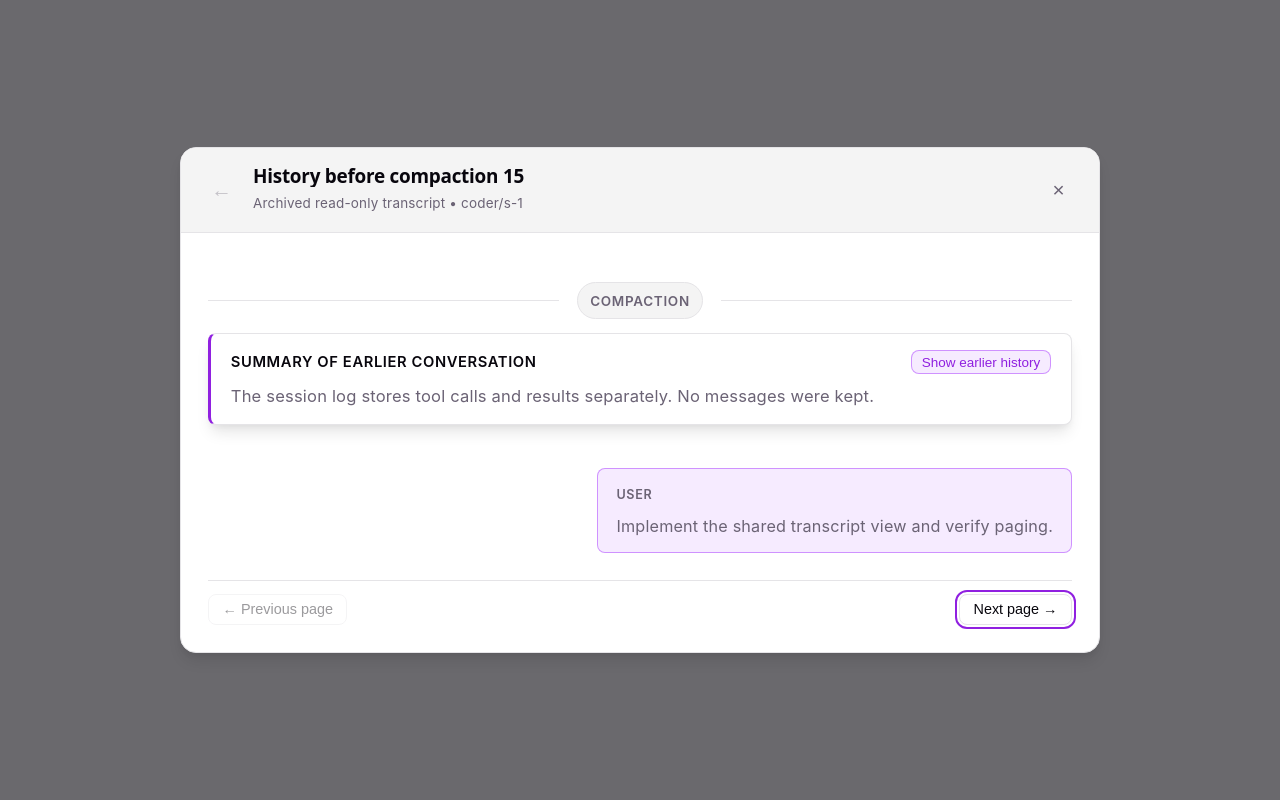
Test: ArchivedHistoryViewer (D4 browse-back) › recovers focus to the content container when paging fails with an error
Click the button "Next page →": coordinates (1016, 609) [959, 594, 1072, 625]
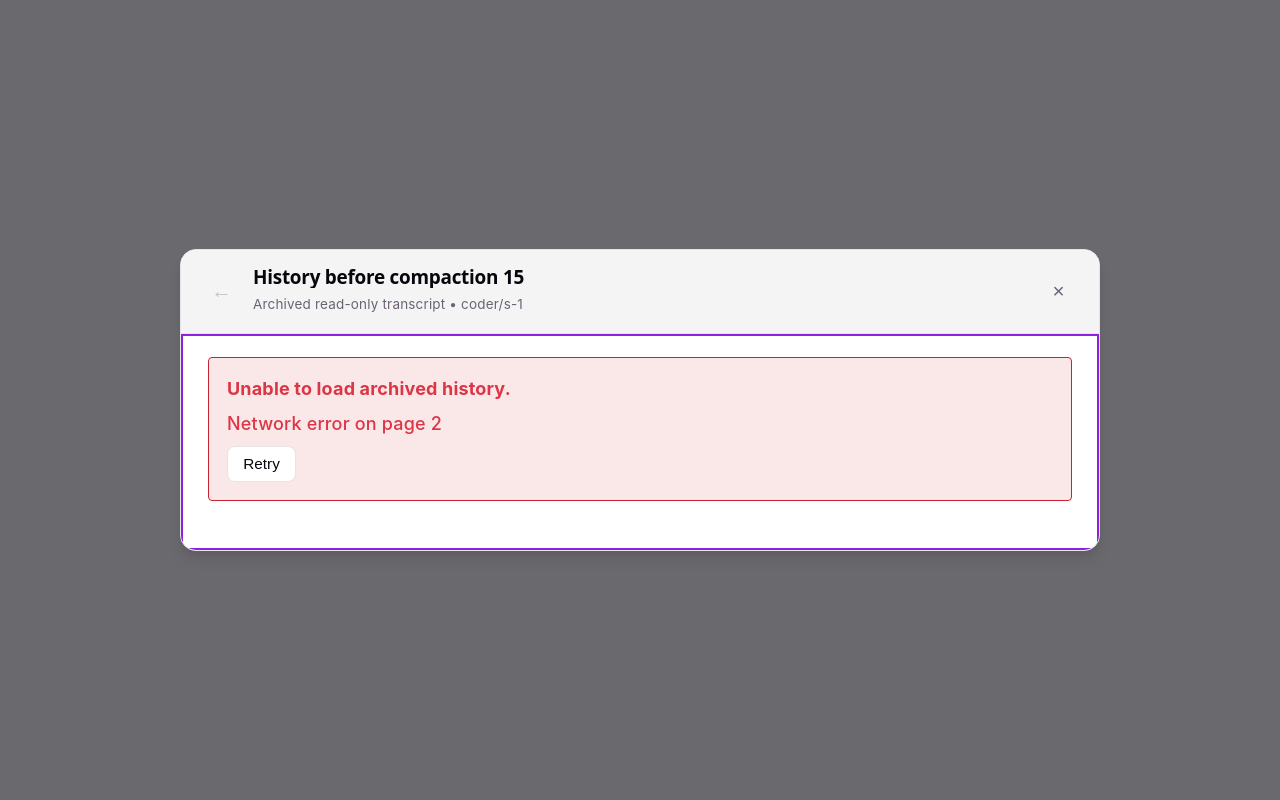
Expected: the text "Network error on page 2" is shown, [227, 411, 442, 437]
